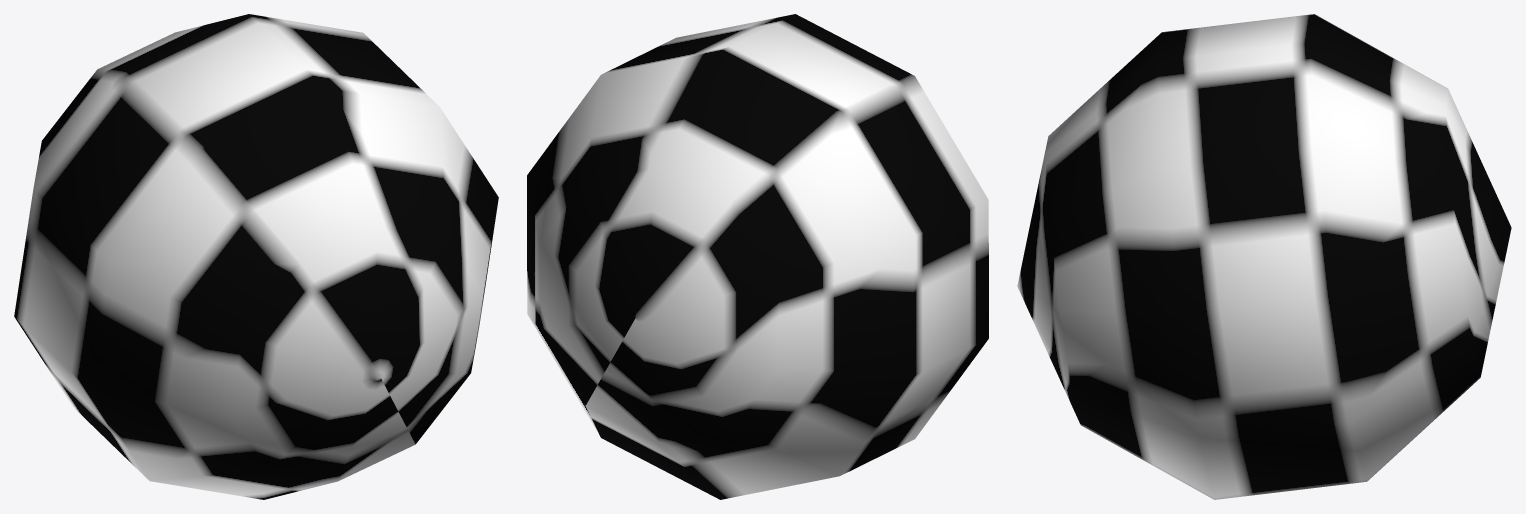
Rendered from initqu52.dae.
3 views of the same model, side by side, from view 1: azimuth 30°, elevation 25°; view 2: azimuth 150°, elevation 25°; view 3: azimuth 270°, elevation 25° (orthographic).
Parts seen in each view (by area): view 1: item; view 2: item; view 3: item.
Boxes of the visible parts, box(x1,y1,x2,y2) form: item: box(14, 14, 498, 499); item: box(527, 14, 988, 499); item: box(1017, 14, 1511, 499).
Size of the model in its own units: 1.25 by 1.34 by 1.33.
Materials: 1 (1 with a texture image).
